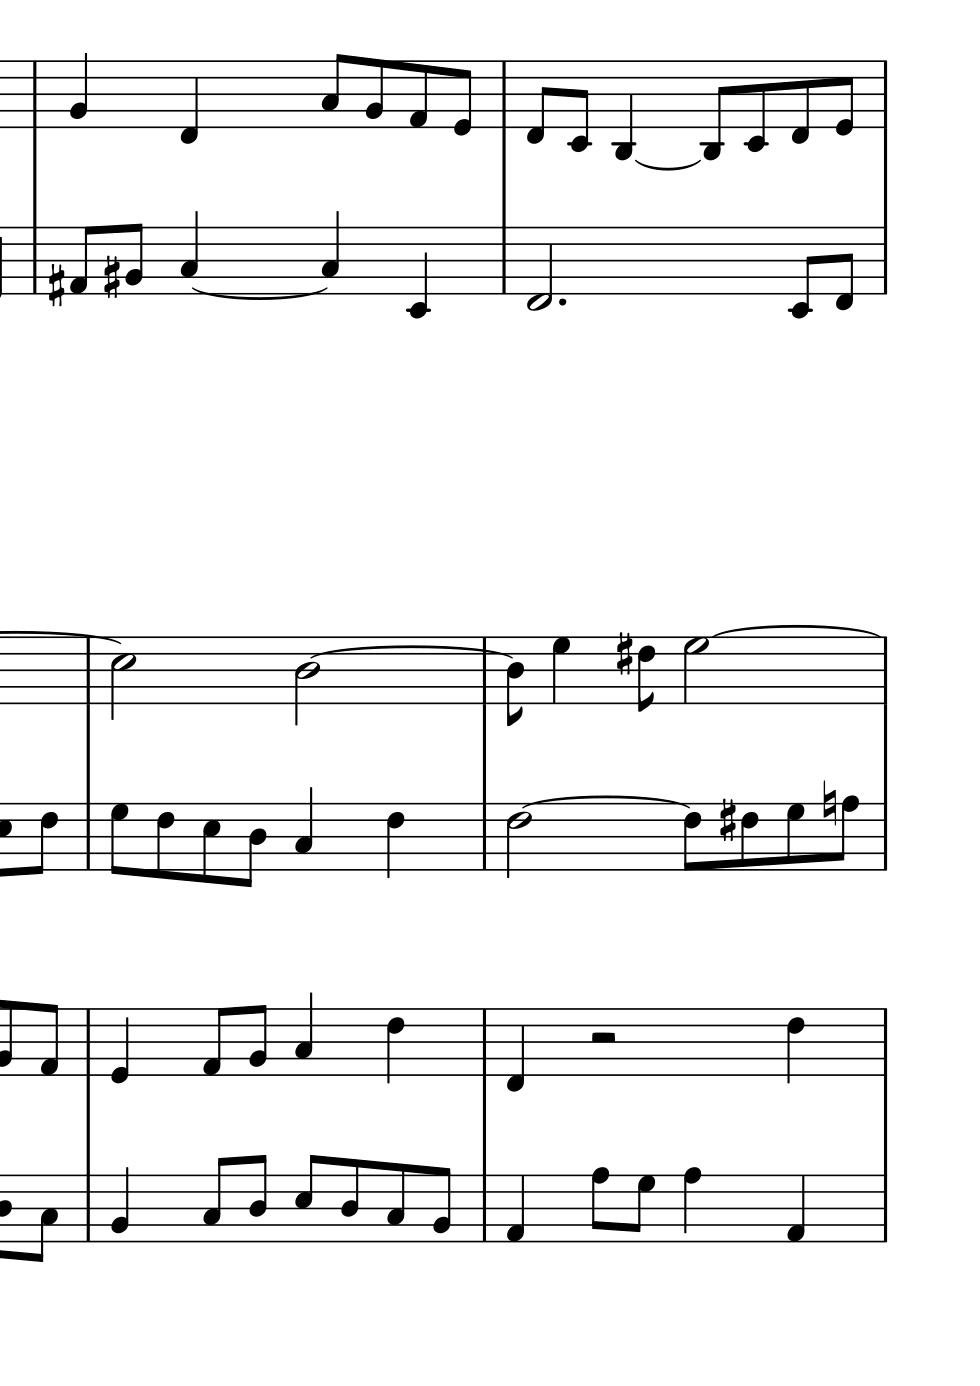2_-1: (525, 225, 554, 314)
2_4: (293, 636, 321, 726)
2_5: (109, 635, 135, 721)
2_6: (504, 802, 530, 879)
2_7: (681, 635, 707, 706)
4_-1: (177, 58, 200, 146), (503, 1006, 525, 1093)
4_-2: (406, 224, 430, 317)
4_-3: (610, 58, 634, 161)
4_0: (107, 1006, 132, 1085)
4_1: (503, 1173, 526, 1244), (784, 1173, 806, 1245)
4_2: (109, 1165, 132, 1244), (68, 51, 89, 129)
4_3: (292, 786, 314, 872), (292, 992, 314, 1077), (178, 210, 200, 294), (319, 210, 342, 294)
4_6: (384, 801, 406, 880), (383, 1007, 405, 1087), (785, 1006, 805, 1085)
4_7: (549, 635, 572, 705)
4_8: (681, 1165, 702, 1244)
8_-1: (523, 59, 552, 145), (832, 225, 856, 313), (788, 57, 811, 145)
8_-2: (785, 225, 817, 320), (565, 57, 592, 153), (741, 59, 768, 154)
8_-3: (699, 59, 729, 162)
8_0: (450, 59, 473, 137), (832, 59, 855, 137)
8_1: (199, 1006, 228, 1078), (68, 225, 97, 295), (36, 1001, 59, 1078), (406, 58, 428, 130)
8_2: (430, 1165, 453, 1244), (364, 57, 386, 130), (123, 221, 144, 295), (247, 1003, 267, 1078)
8_3: (30, 1172, 58, 1265), (200, 1155, 229, 1244), (319, 52, 348, 130), (385, 1162, 406, 1244)
8_4: (240, 802, 267, 890), (504, 636, 525, 729), (247, 1153, 268, 1244), (339, 1157, 360, 1243)
8_5: (292, 1153, 321, 1243), (200, 800, 221, 885)
8_6: (31, 801, 60, 877), (635, 635, 657, 717), (154, 801, 175, 881), (682, 800, 702, 872), (739, 801, 759, 872)
8_7: (628, 1173, 657, 1242), (783, 801, 806, 872), (108, 801, 129, 877)
8_8: (833, 795, 861, 873), (589, 1165, 610, 1244)
Natural: (820, 778, 837, 828)
Rests2: (587, 1031, 618, 1046)
Sharp: (45, 261, 65, 309), (717, 796, 737, 844), (102, 255, 121, 302), (614, 631, 633, 678)
Single_barline: (476, 1008, 495, 1075), (78, 1008, 97, 1076), (475, 1175, 493, 1242), (876, 227, 893, 295), (875, 1174, 892, 1242), (80, 803, 97, 870), (80, 1176, 97, 1242), (495, 62, 511, 129), (496, 228, 512, 295), (477, 803, 493, 870), (877, 1008, 893, 1075), (27, 62, 42, 127), (27, 226, 41, 295), (877, 62, 892, 129), (477, 638, 492, 704), (878, 803, 892, 871), (878, 638, 892, 705), (82, 650, 97, 705)
Slur: (308, 645, 518, 661), (518, 793, 694, 811), (715, 622, 883, 637), (194, 286, 330, 301), (636, 158, 697, 172)
dot: (555, 293, 568, 310)
